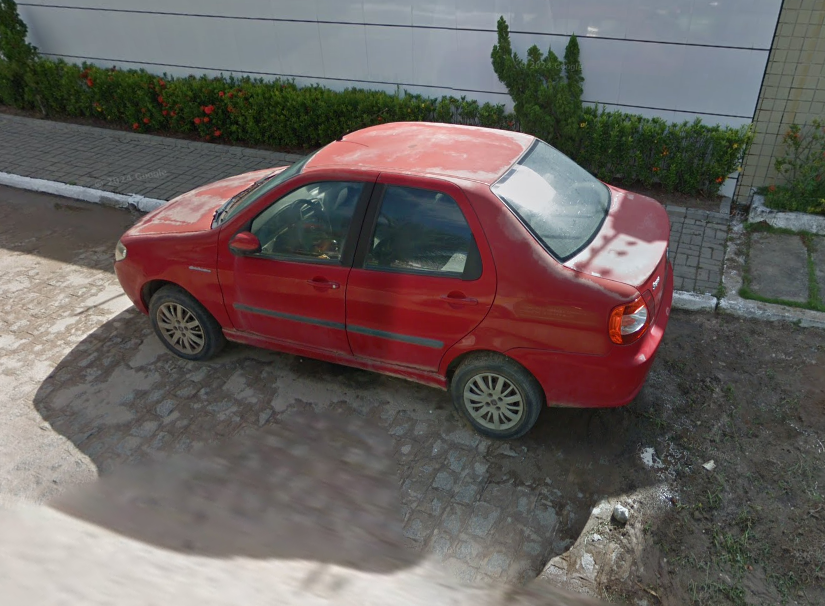car: (108, 117, 677, 444)
